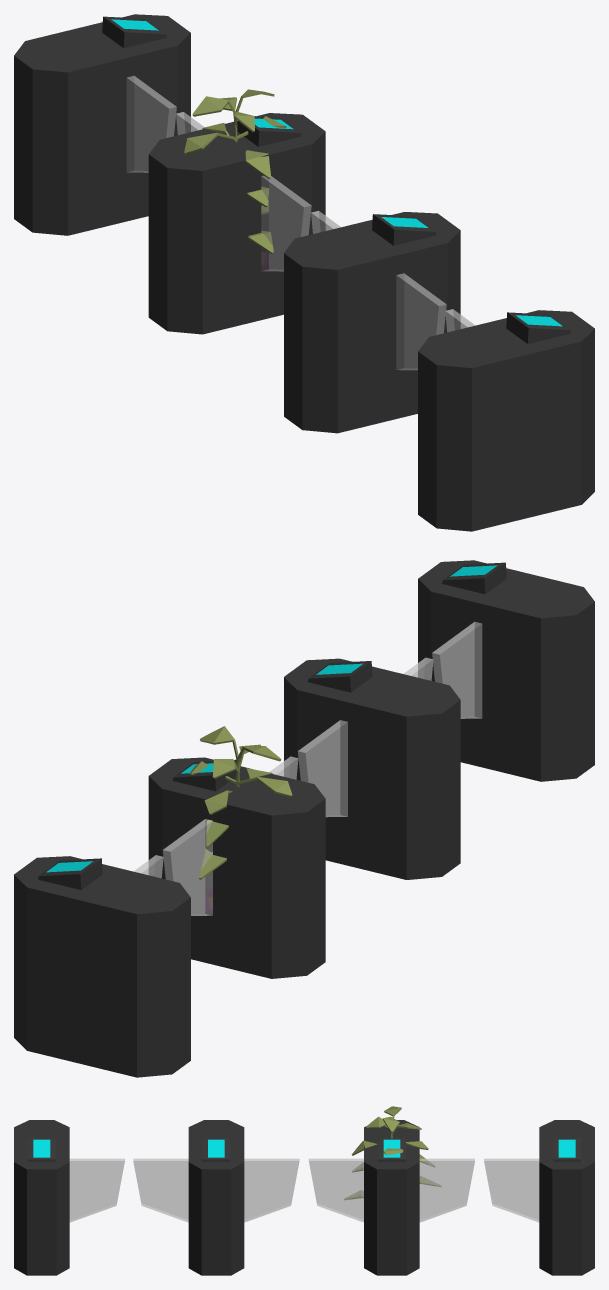
File: turnike.fbx
3 views of the same model, one above another, from view 1: azimuth 30°, elevation 25°; view 2: azimuth 150°, elevation 25°; view 3: azimuth 270°, elevation 25° (orthographic). The views are drawn at different scales.
Visible parts, largest first — view 1: Cube.003, Cube, Cube.002, Cube.001, Plane.002; view 2: Cube.002, Cube, Cube.003, Cube.001, Plane.002; view 3: Cube, Cube.001, Cube.002, Cube.003, Plane.002.
Boxes of the visible parts, x1,y1,x2,y2 form: Cube.003: (418, 309, 594, 531); Cube: (284, 210, 460, 433); Cube.002: (14, 14, 190, 235); Cube.001: (148, 112, 325, 334); Plane.002: (184, 89, 286, 270); Cube.002: (14, 855, 190, 1077); Cube: (284, 657, 460, 879); Cube.003: (418, 560, 594, 781); Cube.001: (148, 756, 325, 978); Plane.002: (189, 726, 292, 915); Cube: (133, 1120, 299, 1275); Cube.001: (308, 1120, 474, 1275); Cube.002: (484, 1120, 594, 1275); Cube.003: (14, 1120, 124, 1275); Plane.002: (344, 1106, 441, 1199).
Size of the model in its own units: 200 by 265 by 992.
